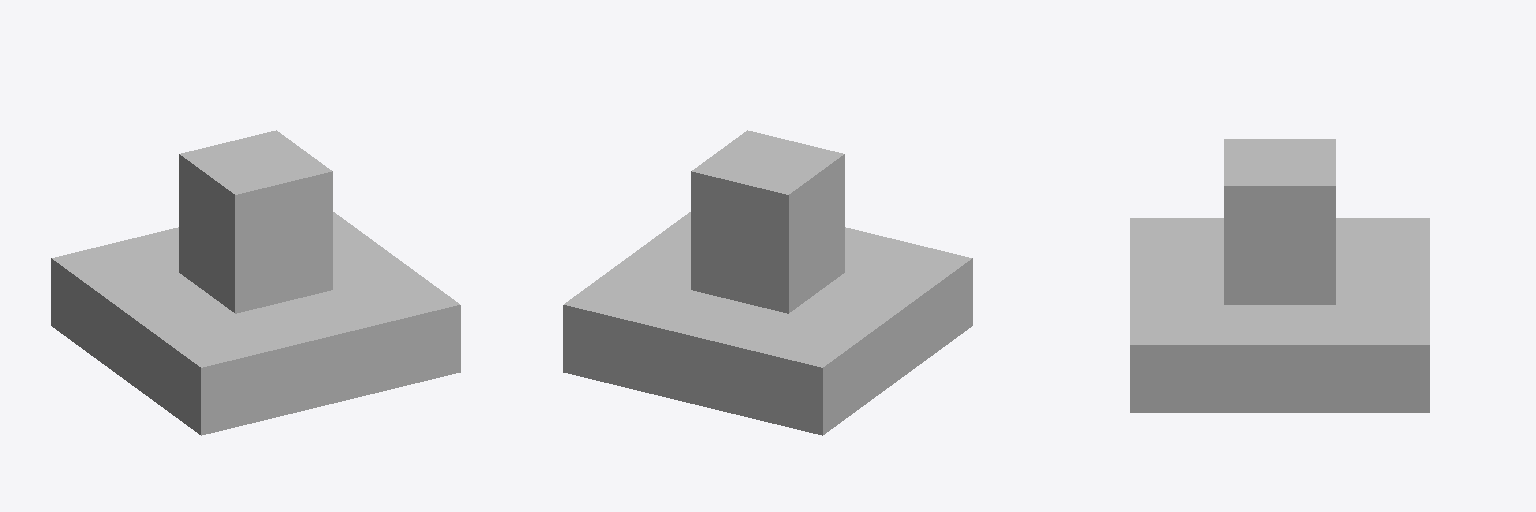
3 views of the same model, side by side, from view 1: azimuth 30°, elevation 25°; view 2: azimuth 150°, elevation 25°; view 3: azimuth 270°, elevation 25° (orthographic).
Parts seen in each view (by area): view 1: test_bb; view 2: test_bb; view 3: test_bb.
Boxes of the visible parts, x1=… form: test_bb: x1=51, y1=130, x2=460, y2=435; test_bb: x1=563, y1=130, x2=972, y2=435; test_bb: x1=1130, y1=139, x2=1429, y2=412.
Bounding box in the file's own units: 1 × 0.6875 × 1.